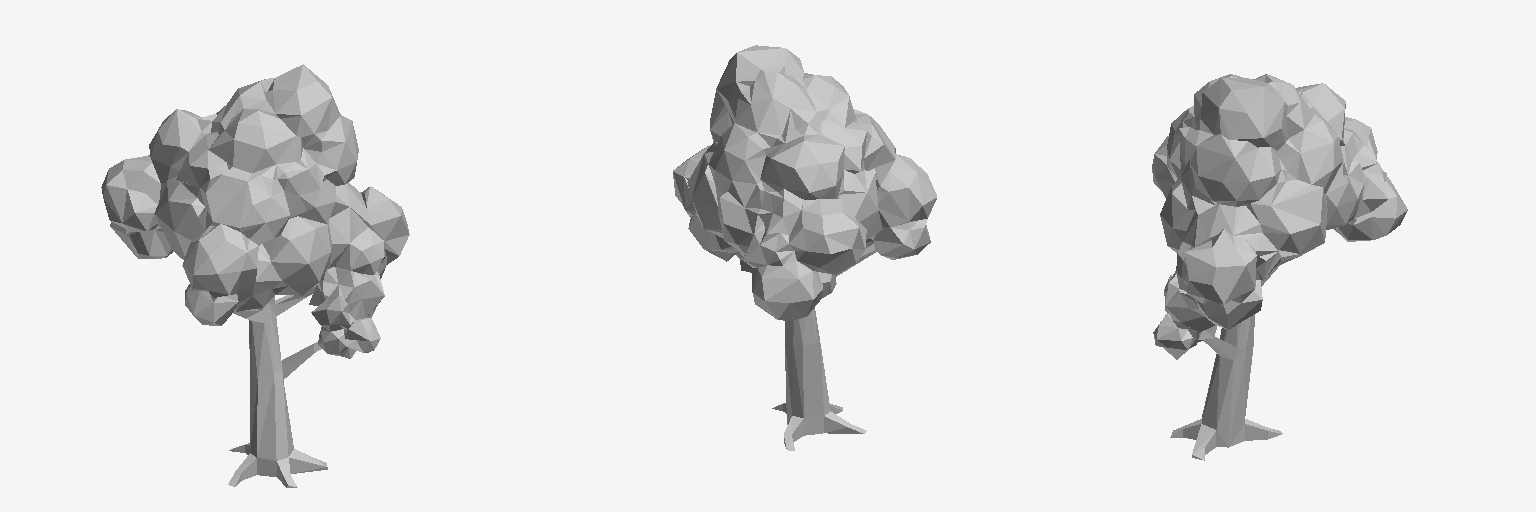
File: Arbolito.obj
3 renders of one model, left to right at view 1: azimuth 30°, elevation 25°; view 2: azimuth 150°, elevation 25°; view 3: azimuth 270°, elevation 25°, orthographic.
Visible parts, largest first — view 1: _6_tree_Material.001; view 2: _6_tree_Material.001; view 3: _6_tree_Material.001.
Part boxes in pixels (x1,y1,x2,y2): _6_tree_Material.001: (101,64,409,487); _6_tree_Material.001: (673,45,936,450); _6_tree_Material.001: (1152,74,1407,460).
Size of the model in its own units: 1.74 by 2.6 by 1.6.